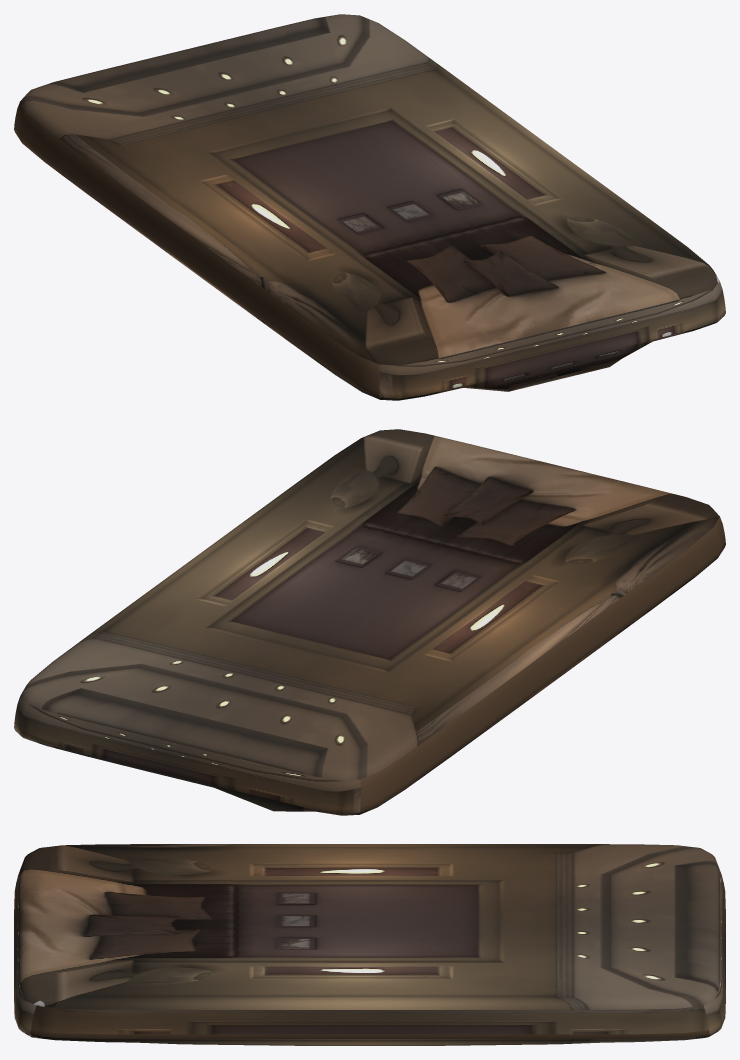
Rendered from handy.fbx.
3 renders of one model, top to bottom at view 1: azimuth 30°, elevation 25°; view 2: azimuth 150°, elevation 25°; view 3: azimuth 270°, elevation 25°, orthographic. The views are drawn at different scales.
Visible parts, largest first — view 1: HTC_Evo_low_poly:default1; view 2: HTC_Evo_low_poly:default1; view 3: HTC_Evo_low_poly:default1.
Part boxes in pixels (bbox=[...]): HTC_Evo_low_poly:default1: bbox=[14, 14, 725, 400]; HTC_Evo_low_poly:default1: bbox=[14, 429, 725, 815]; HTC_Evo_low_poly:default1: bbox=[14, 844, 725, 1045].
Bounding box in the file's own units: 4.94 × 0.9883 × 9.
